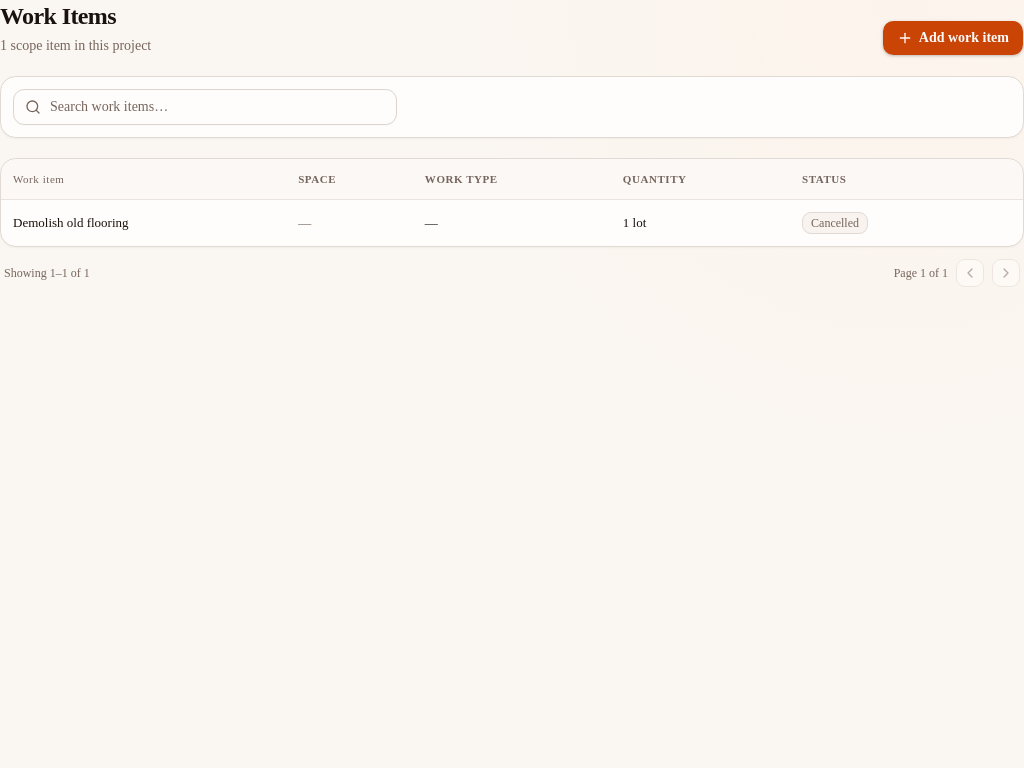
WorkItemList › shows a conflict message when editing an already-cancelled work item fails with 409
Check: the text "Demolish old flooring" is shown, box x1=13 y1=215 x2=128 y2=230
Click the row "Demolish old flooring — — 1 lot Cancelled": (71, 222) x1=1 y1=199 x2=1023 y2=246
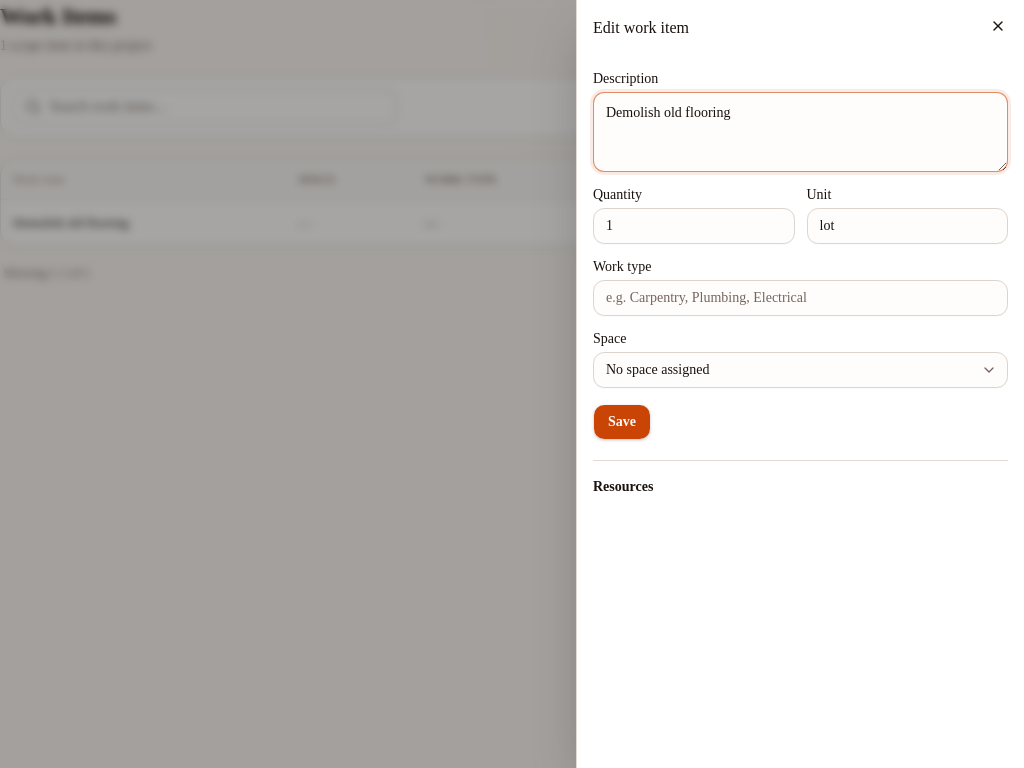
Click the button "Save": (622, 422) x1=593 y1=404 x2=651 y2=440
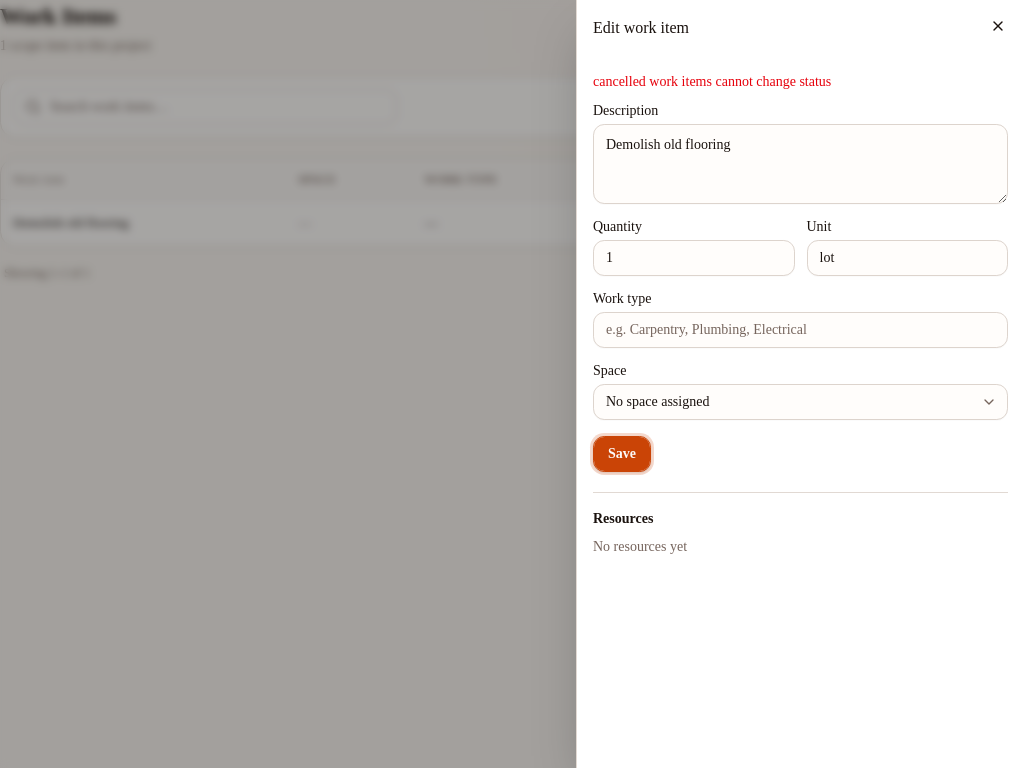
Check: the text "cancelled work items cannot change status" is shown, box x1=593 y1=74 x2=831 y2=89
